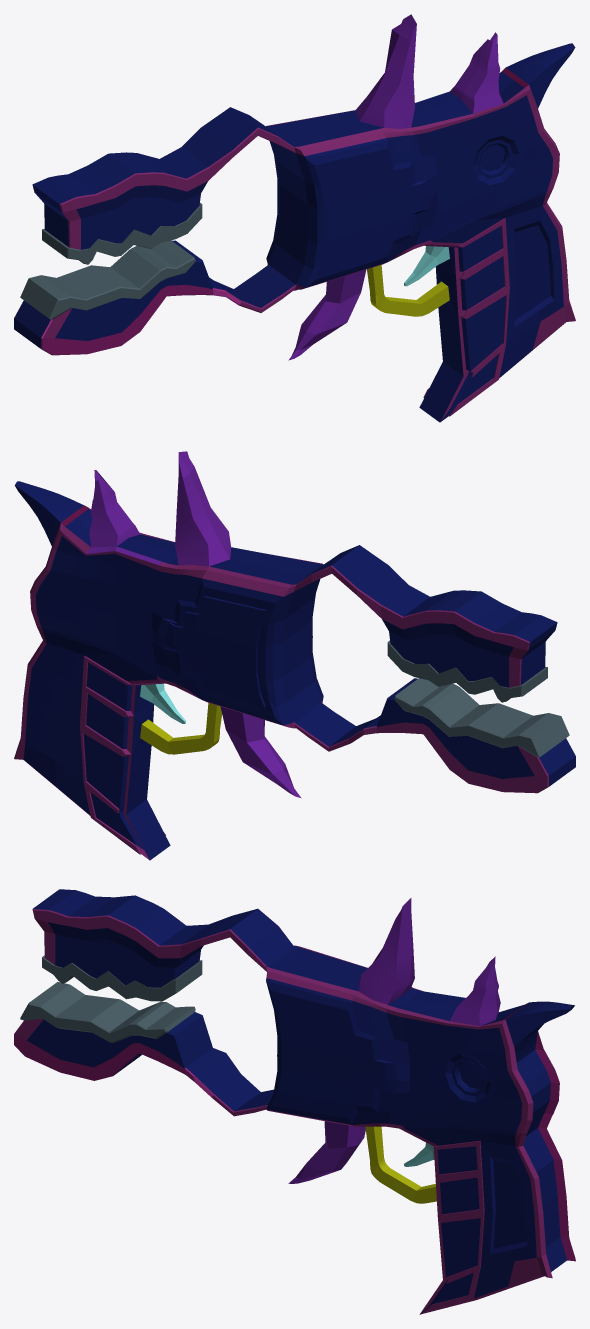
File: Pistol.fbx
The picture shows the model from 3 angles, top to bottom: view 1: azimuth 30°, elevation 25°; view 2: azimuth 150°, elevation 25°; view 3: azimuth 330°, elevation 25°; orthographic projection.
Visible parts, largest first — view 1: pCube2; view 2: pCube2; view 3: pCube2.
Boxes of the visible parts, box(x1,y1,x2,y2) form: pCube2: box(14, 14, 575, 422); pCube2: box(14, 451, 575, 860); pCube2: box(14, 889, 575, 1314).
Size of the model in its own units: 10.02 by 7.12 by 1.41.
